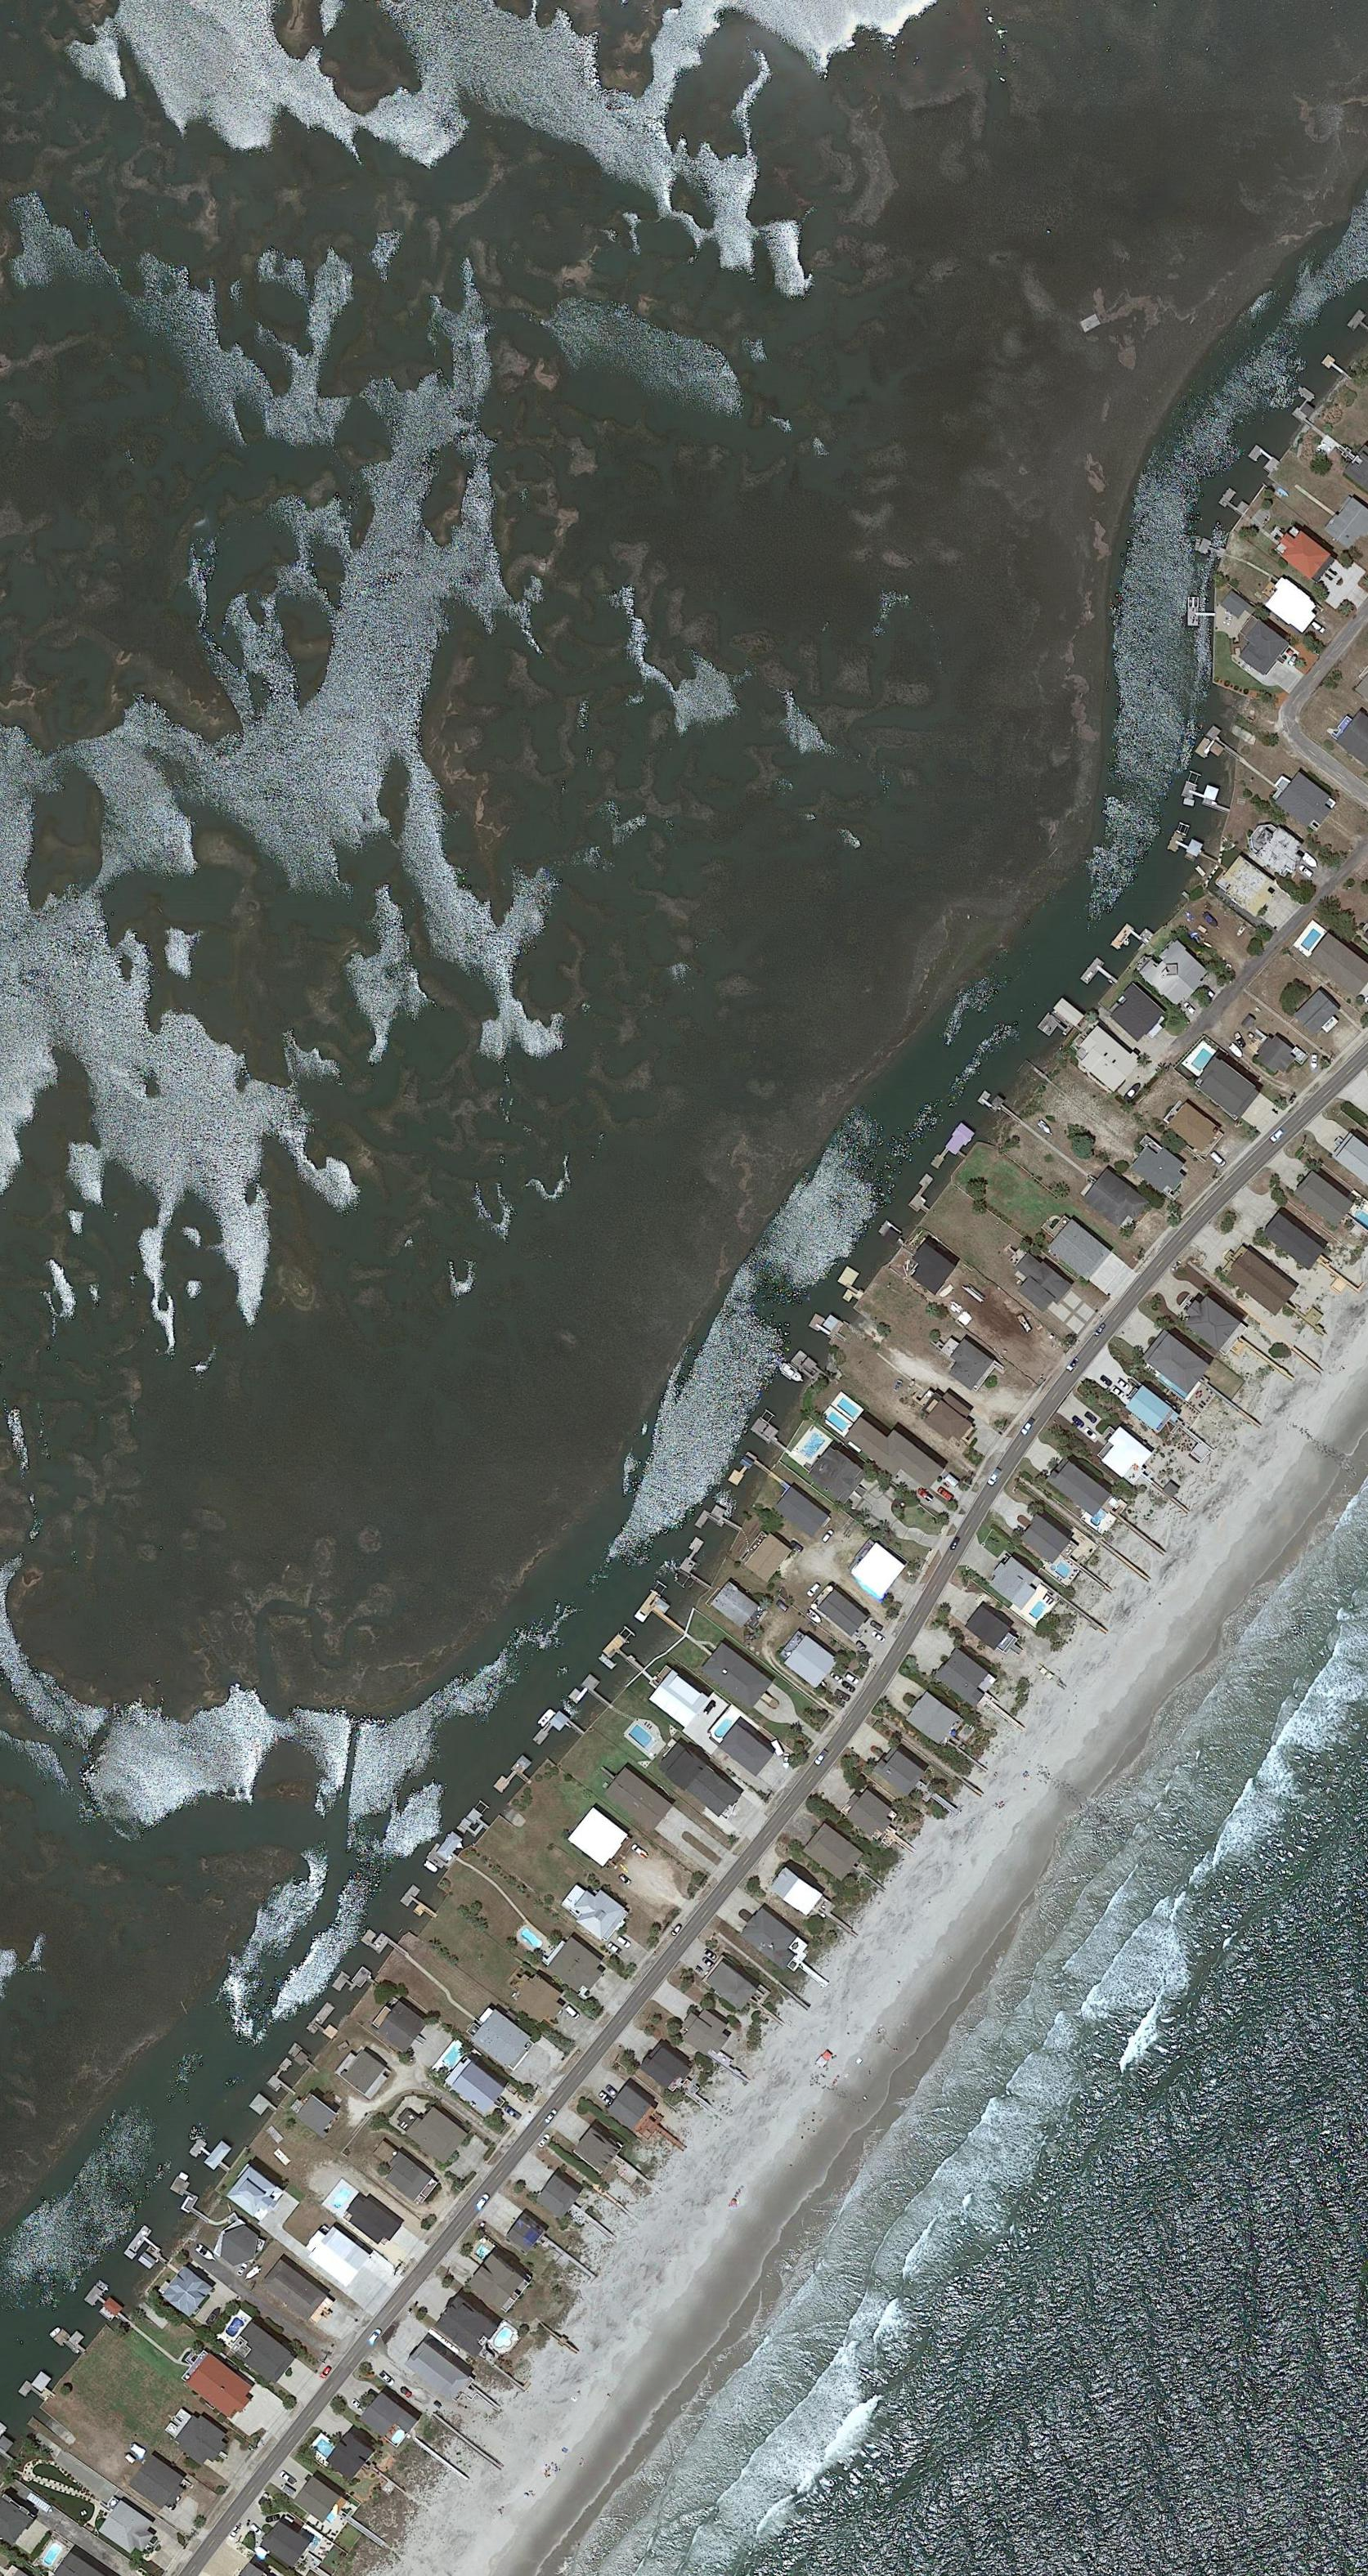harbor: (634, 1591, 693, 1646), (123, 2225, 179, 2281), (1193, 724, 1250, 777), (533, 1711, 586, 1763), (673, 1537, 726, 1590), (930, 1123, 981, 1177), (164, 2176, 220, 2225), (601, 1632, 652, 1682), (189, 2130, 240, 2177), (83, 2285, 135, 2332), (695, 1501, 744, 1549), (1167, 831, 1223, 872), (569, 1673, 617, 1721), (726, 1452, 775, 1498), (494, 1751, 538, 1803), (332, 1958, 378, 2005), (978, 1087, 1026, 1131), (1181, 777, 1237, 814), (361, 1925, 409, 1968), (428, 1826, 468, 1874), (903, 1174, 946, 1216), (307, 2002, 348, 2046), (1080, 957, 1121, 998), (831, 1266, 872, 1307), (400, 1884, 441, 1923), (19, 2368, 58, 2409), (1283, 385, 1324, 424), (266, 2058, 305, 2097), (53, 2322, 92, 2360), (457, 1806, 492, 1845), (751, 1417, 790, 1453), (1111, 923, 1143, 956), (790, 1349, 823, 1382), (1220, 487, 1250, 520), (1037, 1012, 1068, 1043), (1247, 445, 1279, 474), (877, 1220, 911, 1247), (286, 2043, 317, 2070), (1187, 596, 1215, 627), (249, 2094, 278, 2121), (1348, 308, 1368, 346), (808, 1314, 836, 1339), (1198, 538, 1227, 562), (1322, 353, 1348, 378)
ship: (779, 1361, 806, 1385), (193, 2244, 216, 2264), (1036, 1118, 1055, 1136), (244, 2264, 262, 2281), (1302, 852, 1319, 869), (806, 1608, 823, 1625), (1227, 1043, 1245, 1058)
